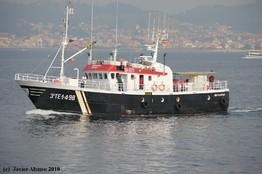otherboat: (11, 11, 231, 118)
